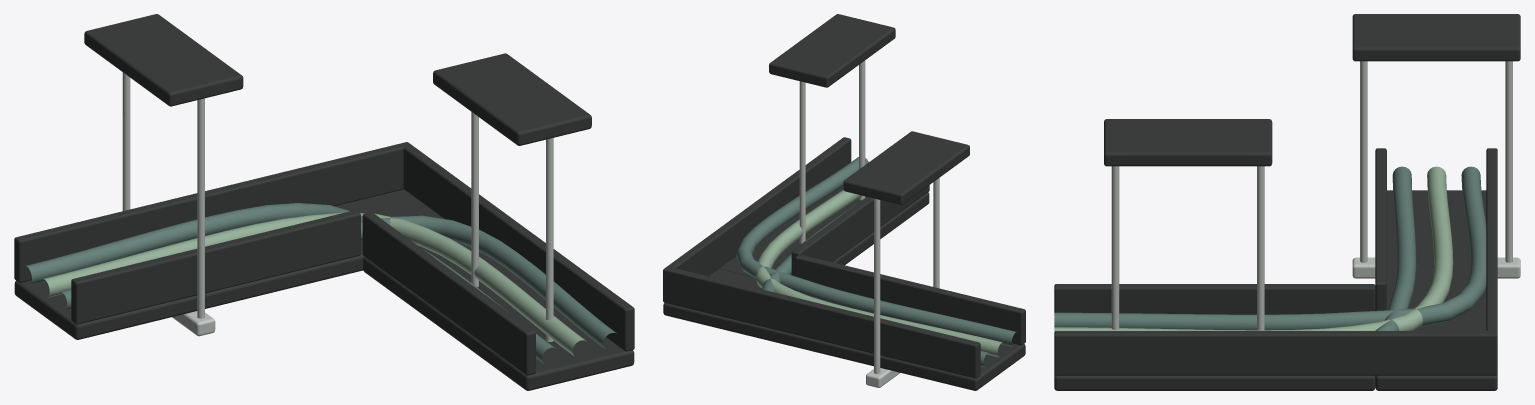
The model's file is abandoned-telephone-exchange-cable-trough-corner-4299e114__32005.glb.
3 views of the same model, side by side, from view 1: azimuth 30°, elevation 25°; view 2: azimuth 150°, elevation 25°; view 3: azimuth 270°, elevation 25° (orthographic). The views are drawn at different scales.
Parts seen in each view (by area): view 1: cable-trough-corner; view 2: cable-trough-corner; view 3: cable-trough-corner.
Boxes of the visible parts, <box> form: cable-trough-corner: <box>14,14,634,390</box>; cable-trough-corner: <box>663,14,1025,390</box>; cable-trough-corner: <box>1054,14,1520,390</box>.
Size of the model in its own units: 1.16 by 0.705 by 1.22.
